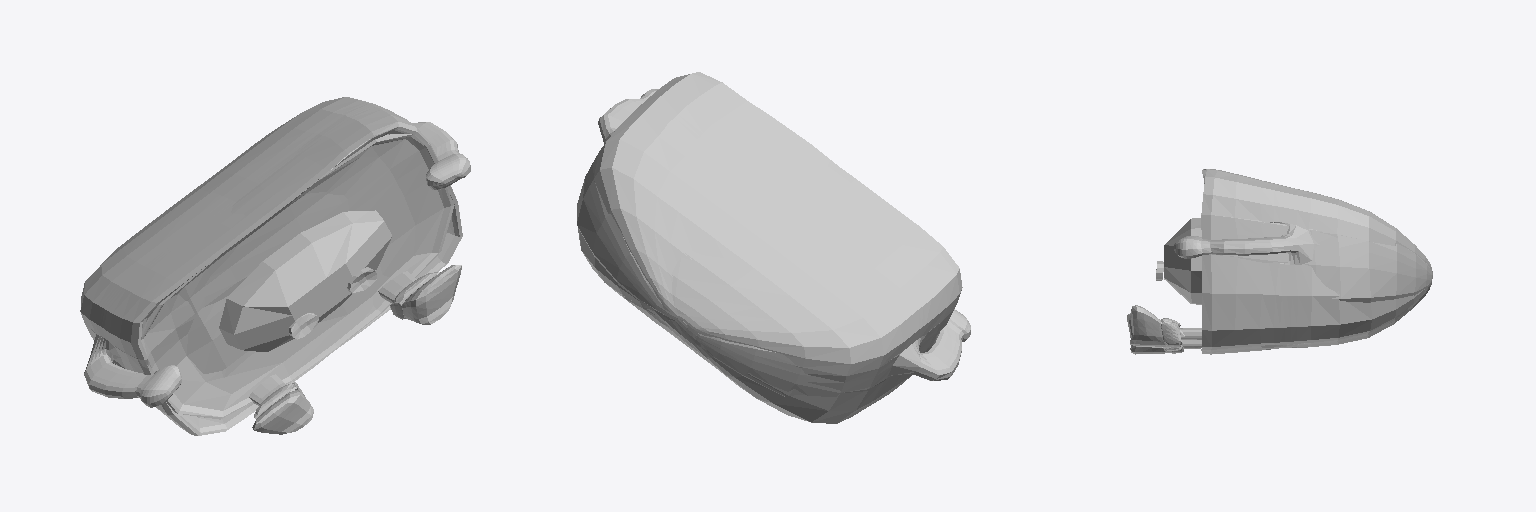
Rendered from Pal_000030.obj.
3 views of the same model, side by side, from view 1: azimuth 30°, elevation 25°; view 2: azimuth 150°, elevation 25°; view 3: azimuth 270°, elevation 25° (orthographic).
Visible parts, largest first — view 1: Cuerpo_de_aguacate_3.001_Cube.002, Hueso_Cubo.003, Ojos_Cubo.002; view 2: Cuerpo_de_aguacate_3.001_Cube.002; view 3: Cuerpo_de_aguacate_3.001_Cube.002, Hueso_Cubo.003.
Boxes of the visible parts, <box> form: Cuerpo_de_aguacate_3.001_Cube.002: <box>80,97,470,435</box>; Hueso_Cubo.003: <box>219,210,391,351</box>; Ojos_Cubo.002: <box>289,267,376,339</box>; Cuerpo_de_aguacate_3.001_Cube.002: <box>577,72,970,423</box>; Cuerpo_de_aguacate_3.001_Cube.002: <box>1127,169,1432,354</box>; Hueso_Cubo.003: <box>1164,218,1201,304</box>.
Size of the model in its own units: 1.34 by 0.9588 by 1.01.